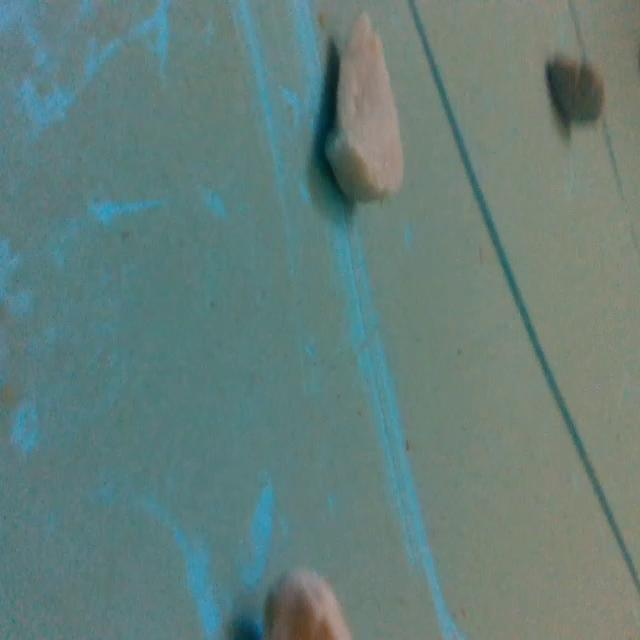rock: (316, 13, 419, 212), (262, 564, 354, 640), (534, 49, 612, 136)
